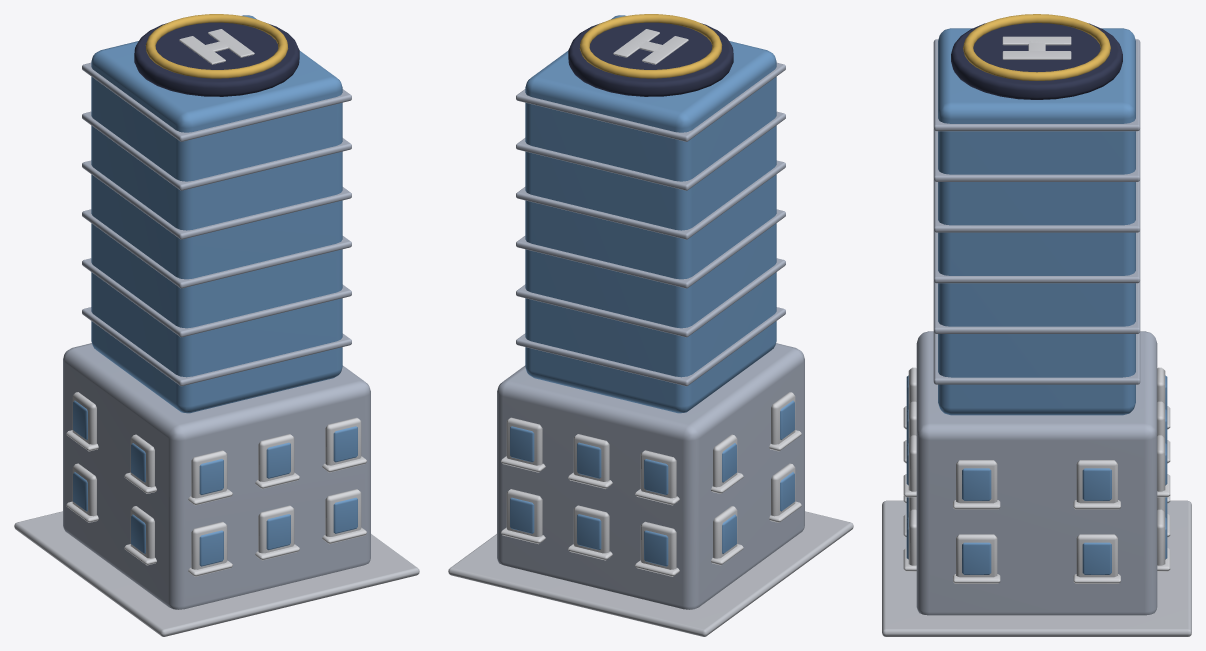
3 views of the same model, side by side, from view 1: azimuth 30°, elevation 25°; view 2: azimuth 150°, elevation 25°; view 3: azimuth 270°, elevation 25° (orthographic). The views are drawn at different scales.
Visible parts, largest first — view 1: Cube; view 2: Cube; view 3: Cube.
Boxes of the visible parts, left/top/right/bottom form: Cube: left=14, top=14, right=419, bottom=636; Cube: left=448, top=14, right=853, bottom=636; Cube: left=882, top=14, right=1191, bottom=636.
Bounding box in the file's own units: 0.72 × 1.36 × 0.72.
